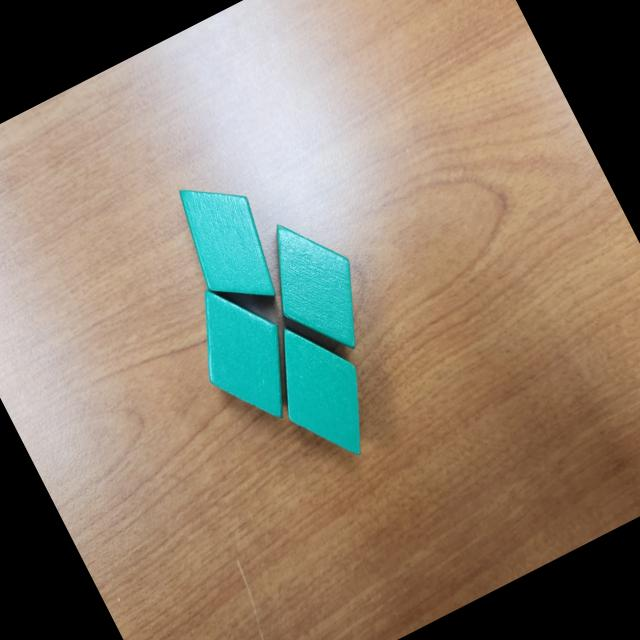green: (172, 266, 319, 442), (250, 303, 396, 477), (244, 204, 386, 370), (162, 164, 292, 320)
